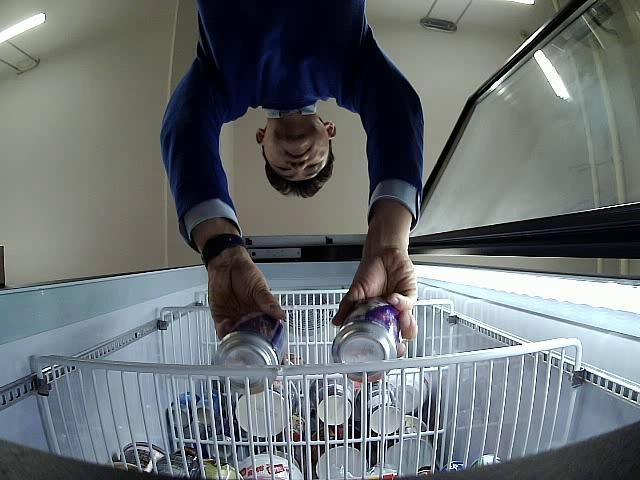14_welchsGrape: (211, 310, 288, 388), (332, 298, 400, 383)
